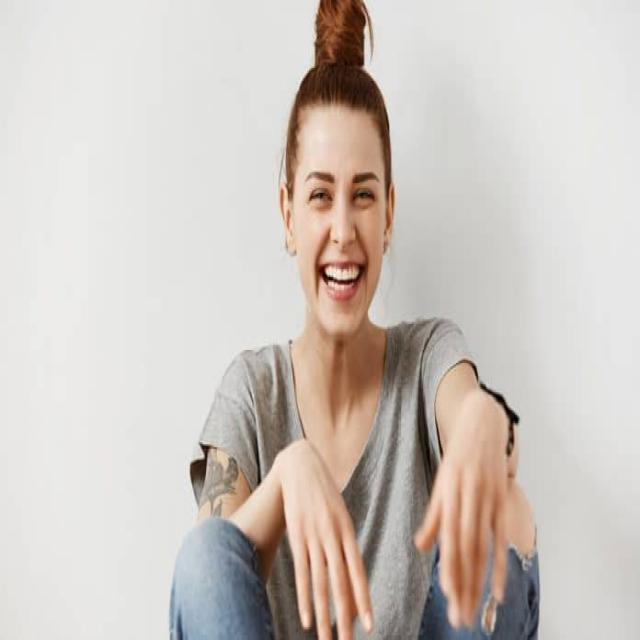mobile_phonerotation: (167, 0, 541, 637)
